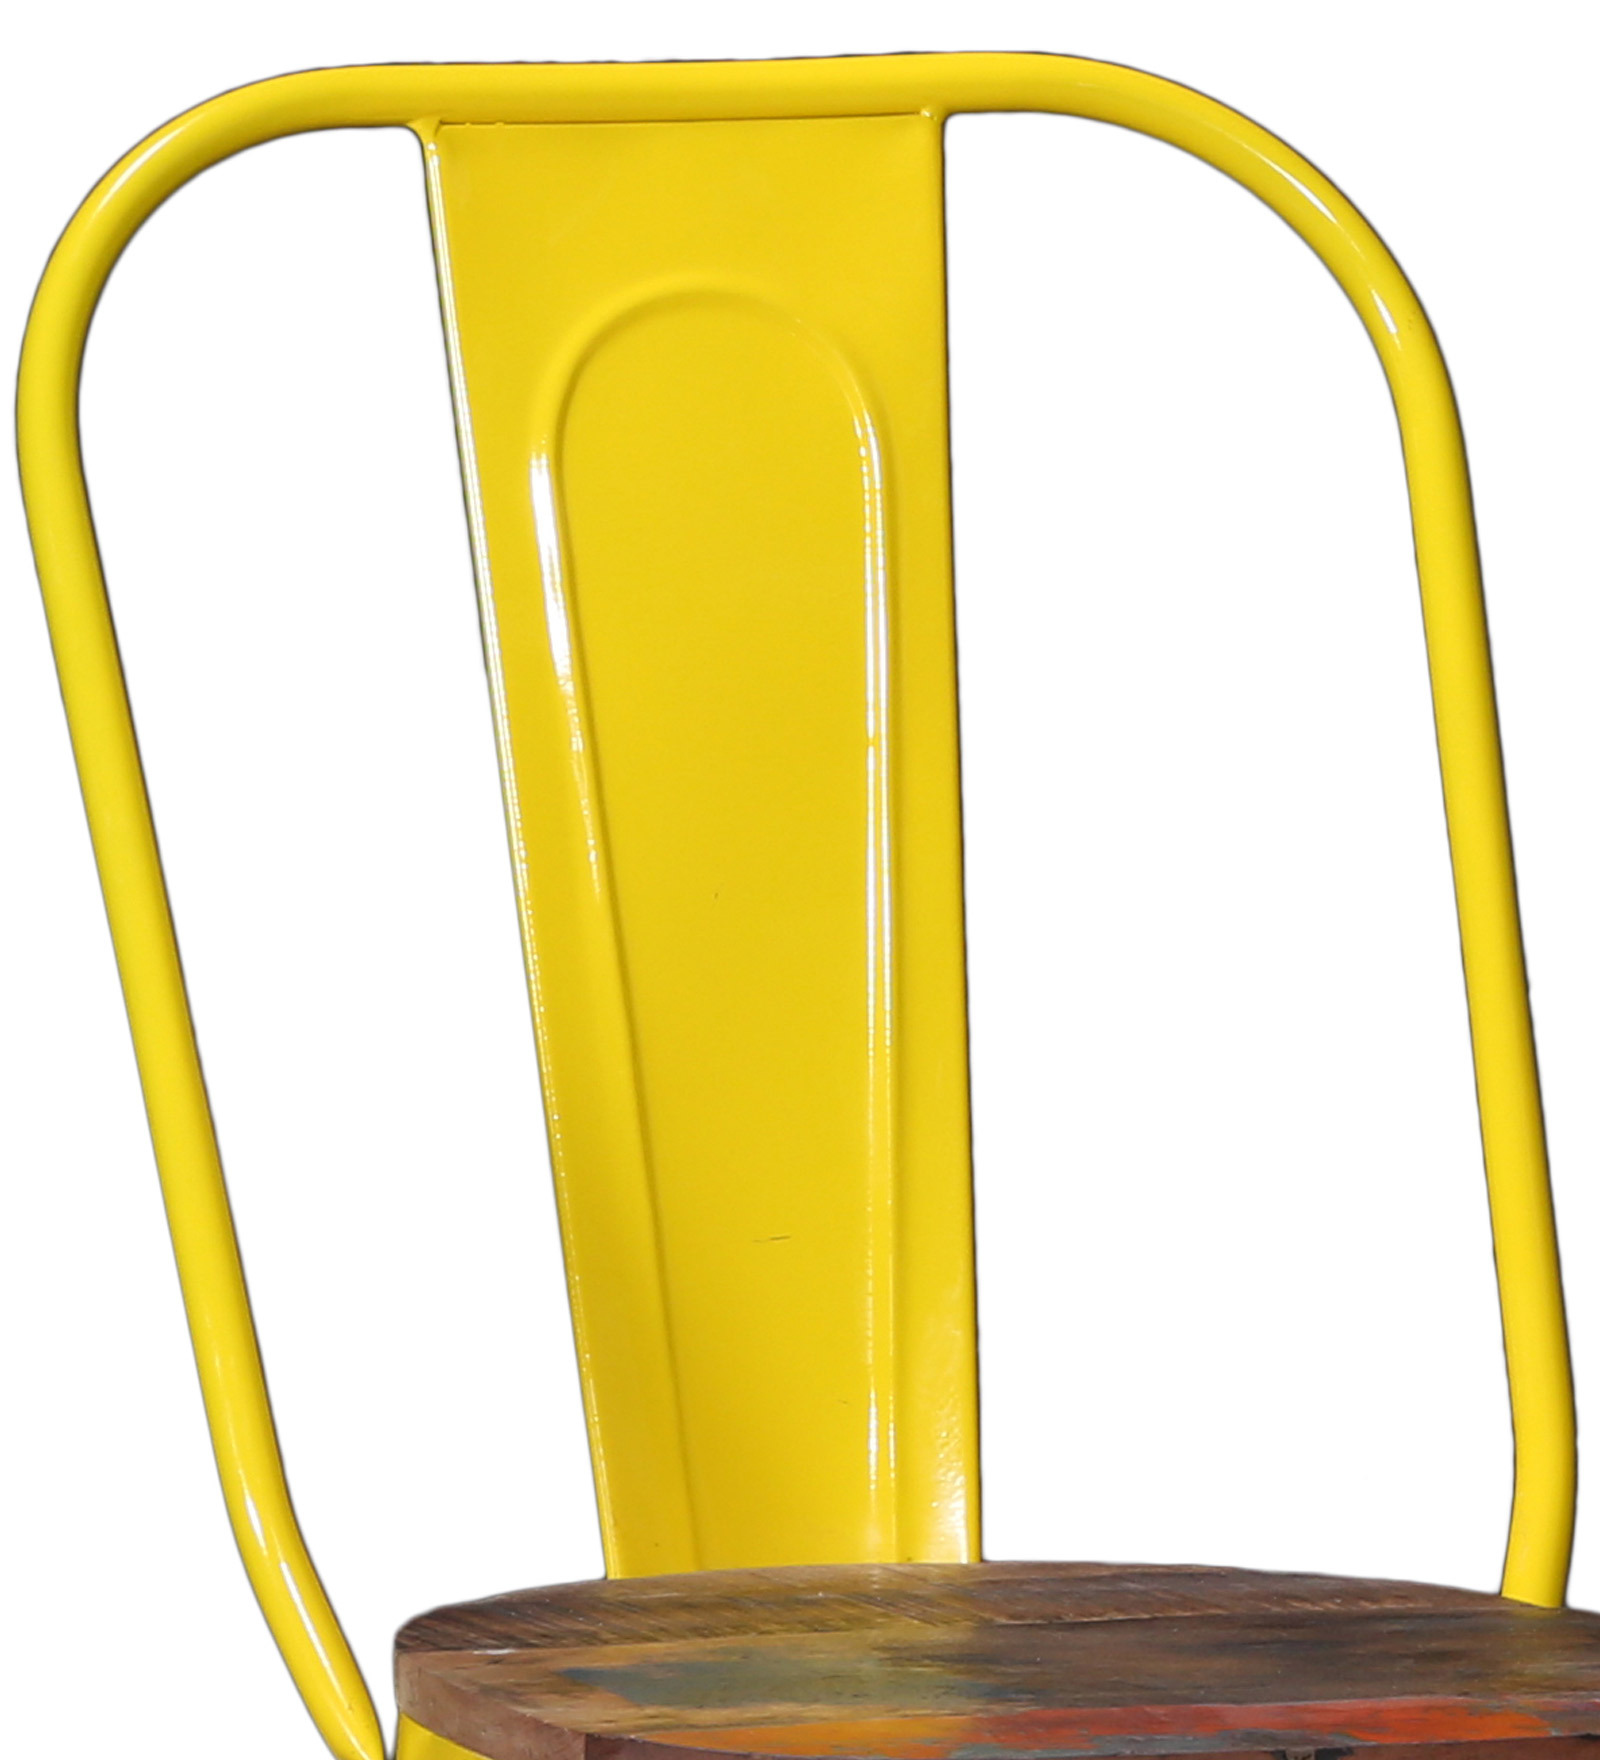Kumtor Metal Chair in Distress Yellow Color with Wooden Seat by Bohemiana: (23, 17, 1600, 1757)
